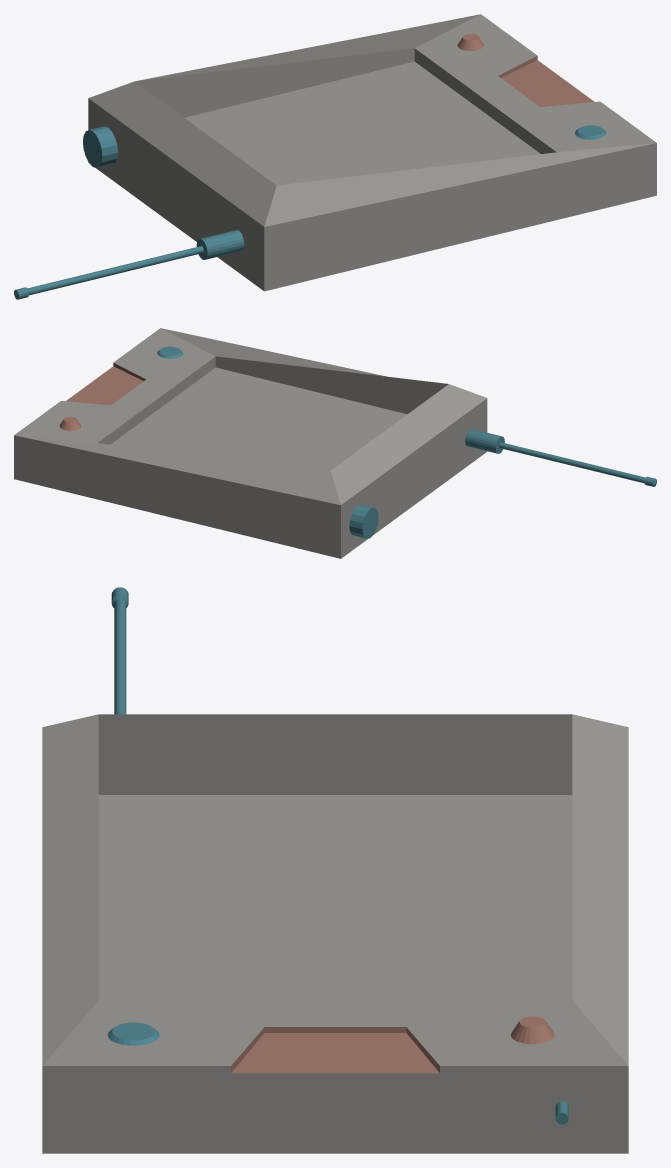
File: Communicator.glb
3 renders of one model, top to bottom at view 1: azimuth 30°, elevation 25°; view 2: azimuth 150°, elevation 25°; view 3: azimuth 270°, elevation 25°, orthographic. The views are drawn at different scales.
Parts seen in each view (by area): view 1: Communicator; view 2: Communicator; view 3: Communicator.
Boxes of the visible parts, <box> form: Communicator: <box>14,14,656,299</box>; Communicator: <box>14,328,656,558</box>; Communicator: <box>42,587,628,1153</box>.
Size of the model in its own units: 3.74 by 0.4883 by 1.8.
